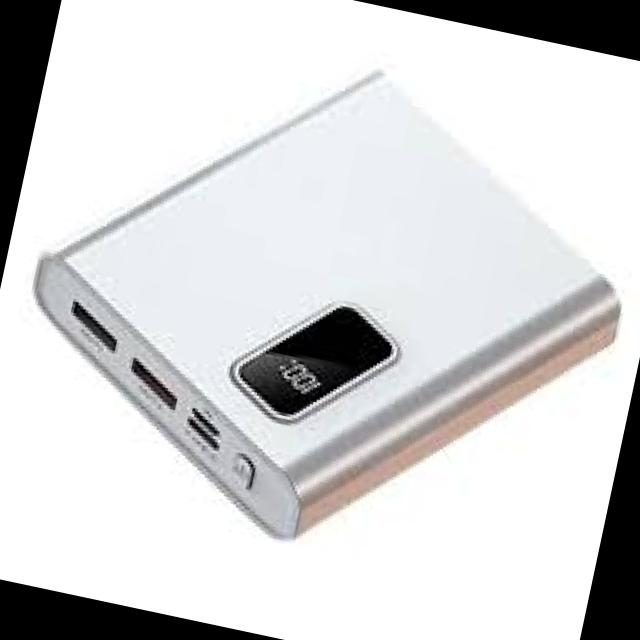power_bank: (0, 5, 640, 602)
